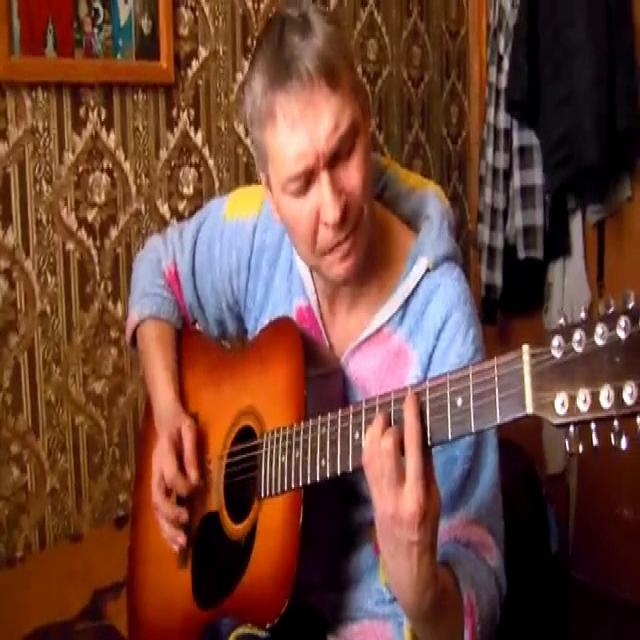Guitar: (121, 286, 640, 640)
